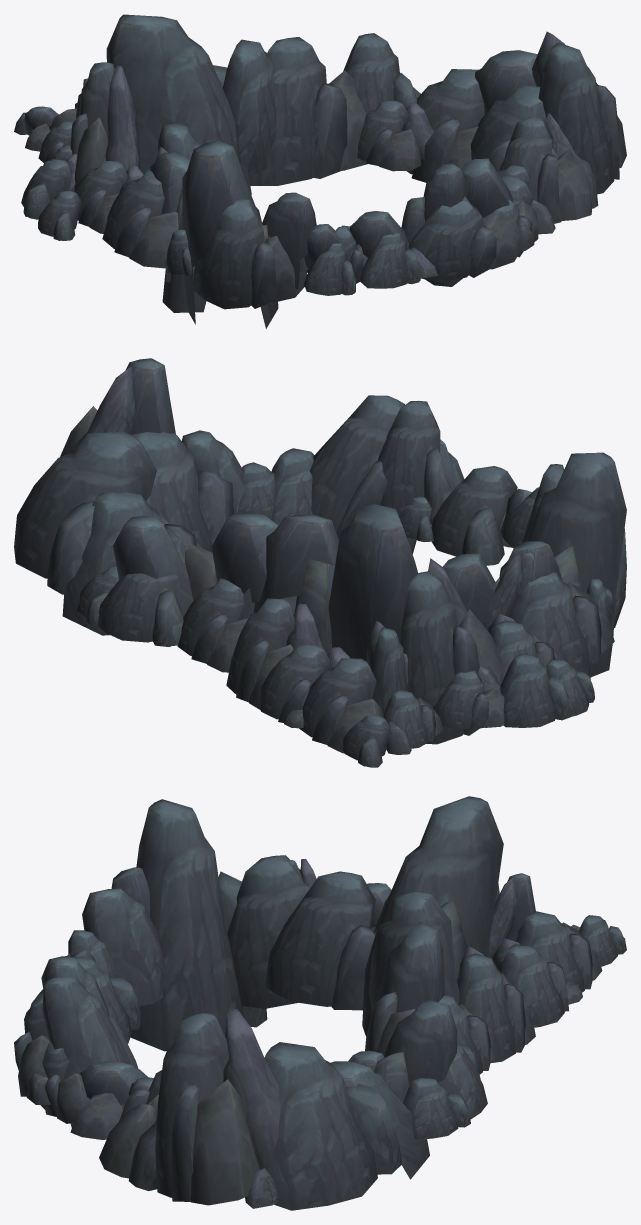
File: Area_05_5.fbx
3 renders of one model, top to bottom at view 1: azimuth 30°, elevation 25°; view 2: azimuth 150°, elevation 25°; view 3: azimuth 270°, elevation 25°, orthographic. The views are drawn at different scales.
Parts seen in each view (by area): view 1: Area_05_5; view 2: Area_05_5; view 3: Area_05_5.
Boxes of the visible parts, x1=… form: Area_05_5: x1=14, y1=14, x2=626, y2=328; Area_05_5: x1=14, y1=358, x2=626, y2=767; Area_05_5: x1=14, y1=796, x2=626, y2=1210.
Size of the model in its own units: 13476 by 5057 by 11531.
